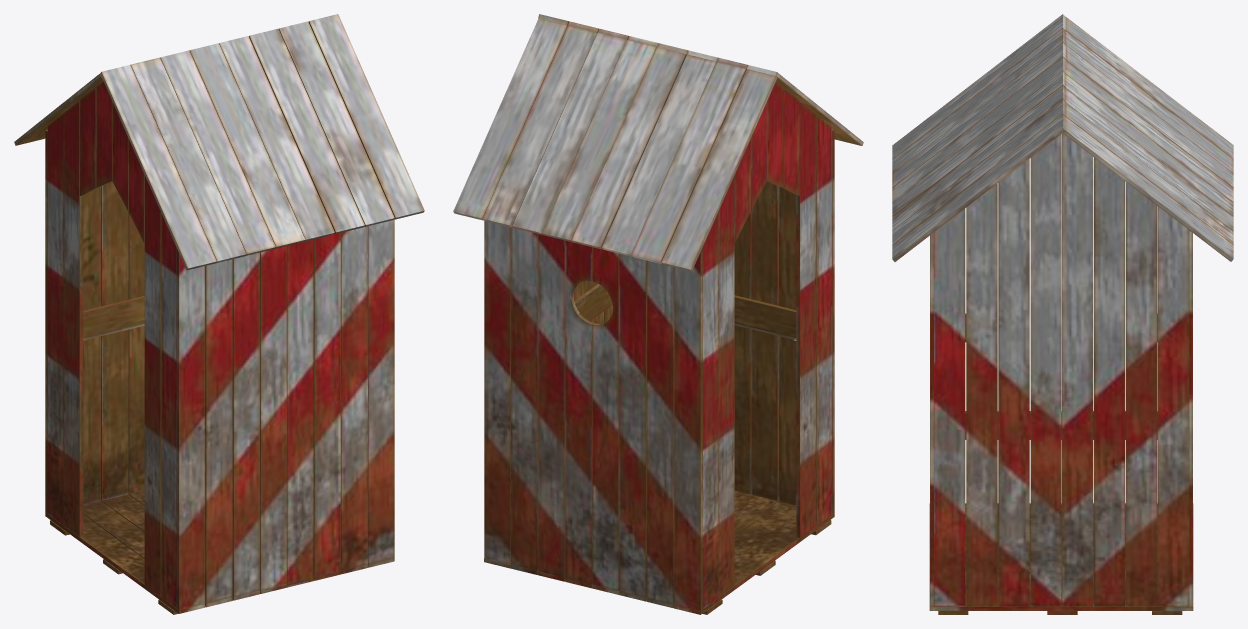
The model's file is prop_booth.glb.
The picture shows the model from 3 angles, left to right: view 1: azimuth 30°, elevation 25°; view 2: azimuth 150°, elevation 25°; view 3: azimuth 270°, elevation 25°; orthographic projection.
Parts seen in each view (by area): view 1: Object_2; view 2: Object_2; view 3: Object_2.
Boxes of the visible parts, x1=… form: Object_2: x1=14, y1=14, x2=424, y2=614; Object_2: x1=453, y1=14, x2=863, y2=614; Object_2: x1=892, y1=14, x2=1233, y2=614.
Bounding box in the file's own units: 2.05 × 4.12 × 2.59.
1 material, 1 textured.
